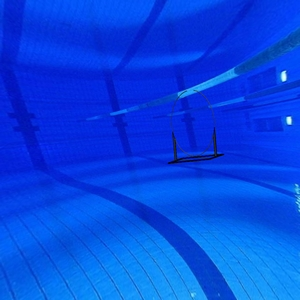circle: (166, 88, 227, 167)
